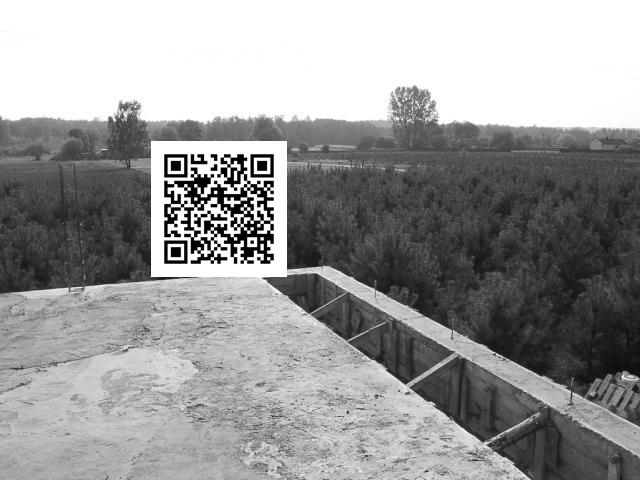qr_code: (151, 140, 287, 276)
